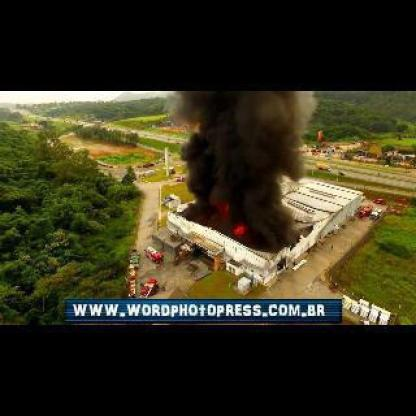fire: (233, 224, 248, 238)
